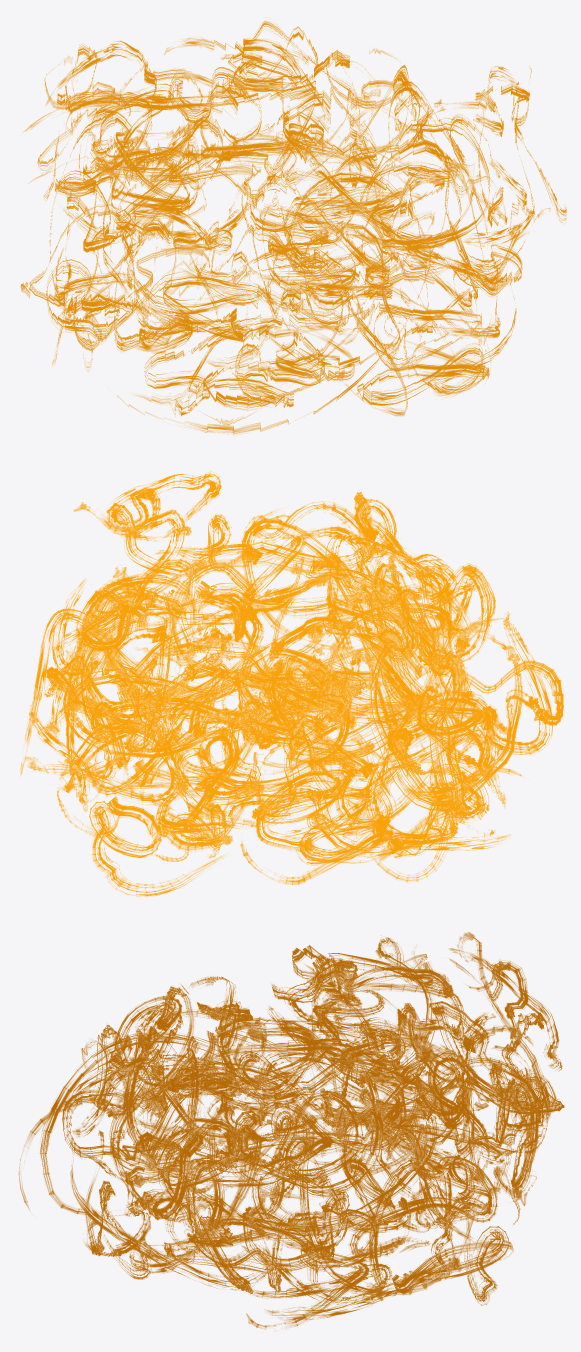
The model's file is Mesh Container.glb.
3 renders of one model, top to bottom at view 1: azimuth 30°, elevation 25°; view 2: azimuth 150°, elevation 25°; view 3: azimuth 270°, elevation 25°, orthographic. The views are drawn at different scales.
Parts seen in each view (by area): view 1: Mesh Renderer (×70); view 2: Mesh Renderer (×81); view 3: Mesh Renderer (×81).
Part boxes in pixels (<box>): Mesh Renderer (×70): <box>20,17,534,434</box>; Mesh Renderer (×81): <box>20,471,563,897</box>; Mesh Renderer (×81): <box>18,932,564,1329</box>.
Bounding box in the file's own units: 2.73 × 1.7 × 2.84.
Materials: 1 (1 with a texture image).
